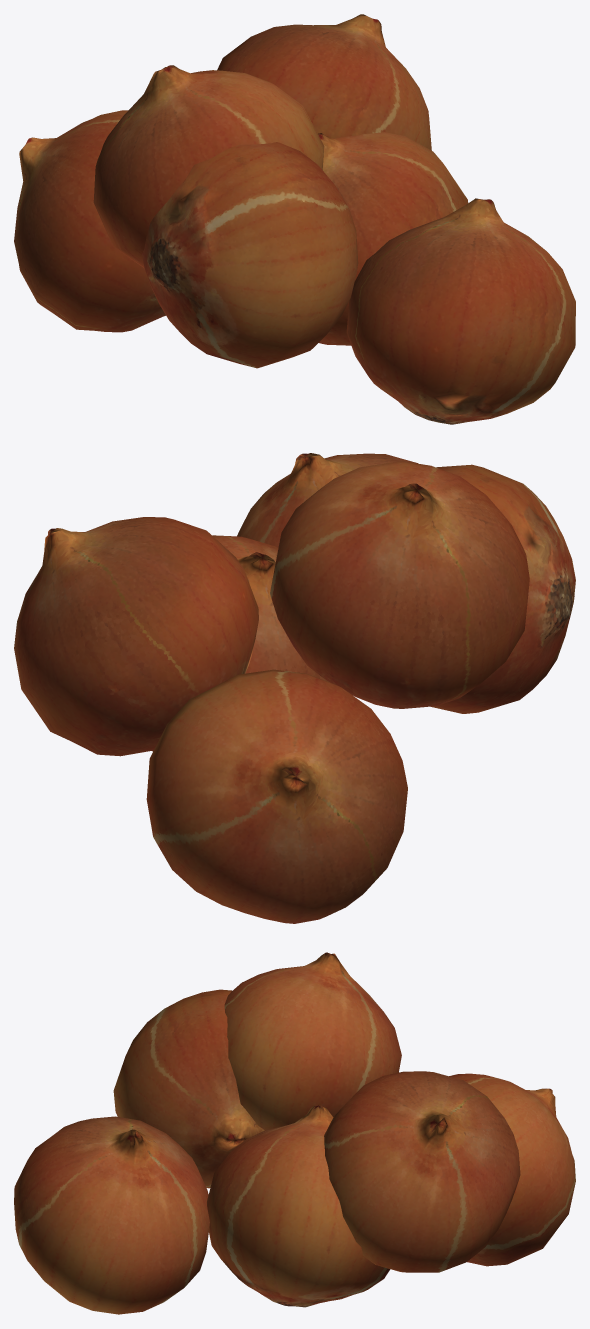
File: JapaneseRestaurant_Onion.fbx
The picture shows the model from 3 angles, top to bottom: view 1: azimuth 30°, elevation 25°; view 2: azimuth 150°, elevation 25°; view 3: azimuth 270°, elevation 25°; orthographic projection. The views are drawn at different scales.
Visible parts, largest first — view 1: JapaneseRestaurant_Onion; view 2: JapaneseRestaurant_Onion; view 3: JapaneseRestaurant_Onion.
Boxes of the visible parts, x1=… form: JapaneseRestaurant_Onion: x1=14, y1=14, x2=575, y2=424; JapaneseRestaurant_Onion: x1=14, y1=453, x2=575, y2=923; JapaneseRestaurant_Onion: x1=14, y1=952, x2=575, y2=1314.
Bounding box in the file's own units: 14.79 × 12.5 × 21.8.
